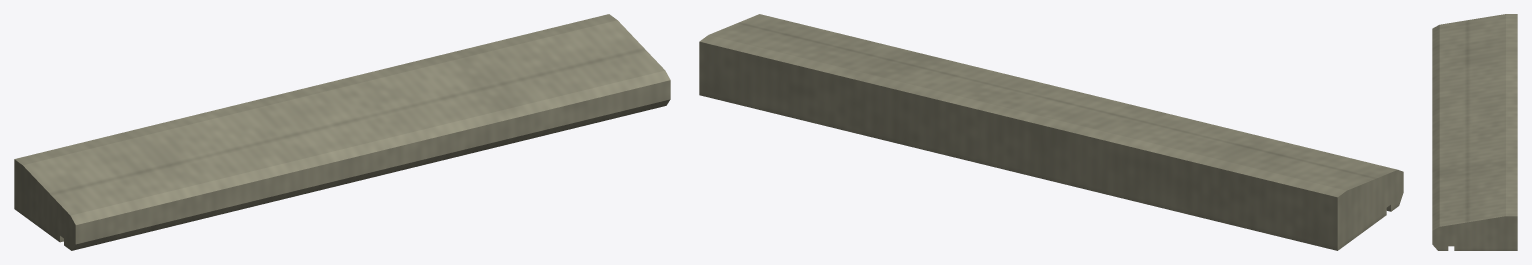
File: residential-cedar-sill.lod0.glb
3 renders of one model, left to right at view 1: azimuth 30°, elevation 25°; view 2: azimuth 150°, elevation 25°; view 3: azimuth 270°, elevation 25°, orthographic. The views are drawn at different scales.
Parts seen in each view (by area): view 1: residential-cedar-sill; view 2: residential-cedar-sill; view 3: residential-cedar-sill.
Boxes of the visible parts, x1,y1,x2,y2 form: residential-cedar-sill: [14, 14, 670, 250]; residential-cedar-sill: [699, 14, 1403, 250]; residential-cedar-sill: [1432, 14, 1517, 250].
Size of the model in its own units: 1.62 by 0.13 by 0.29.
Materials: 1 (1 with a texture image).
